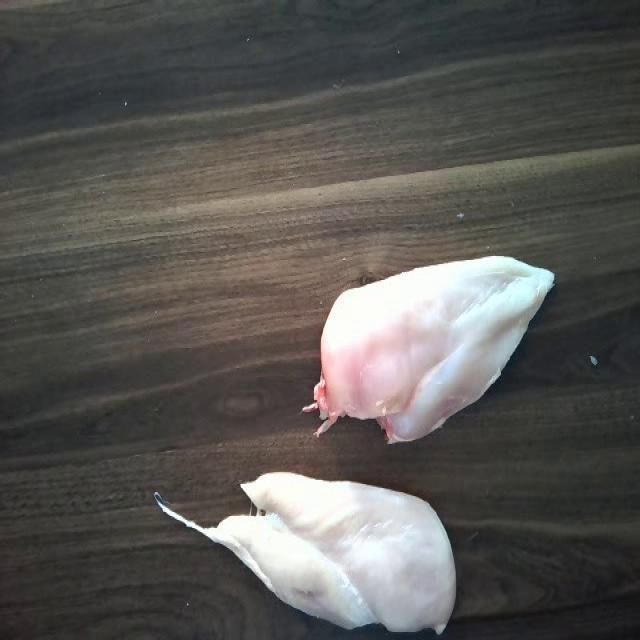breast: (292, 257, 550, 423), (193, 473, 459, 632)
